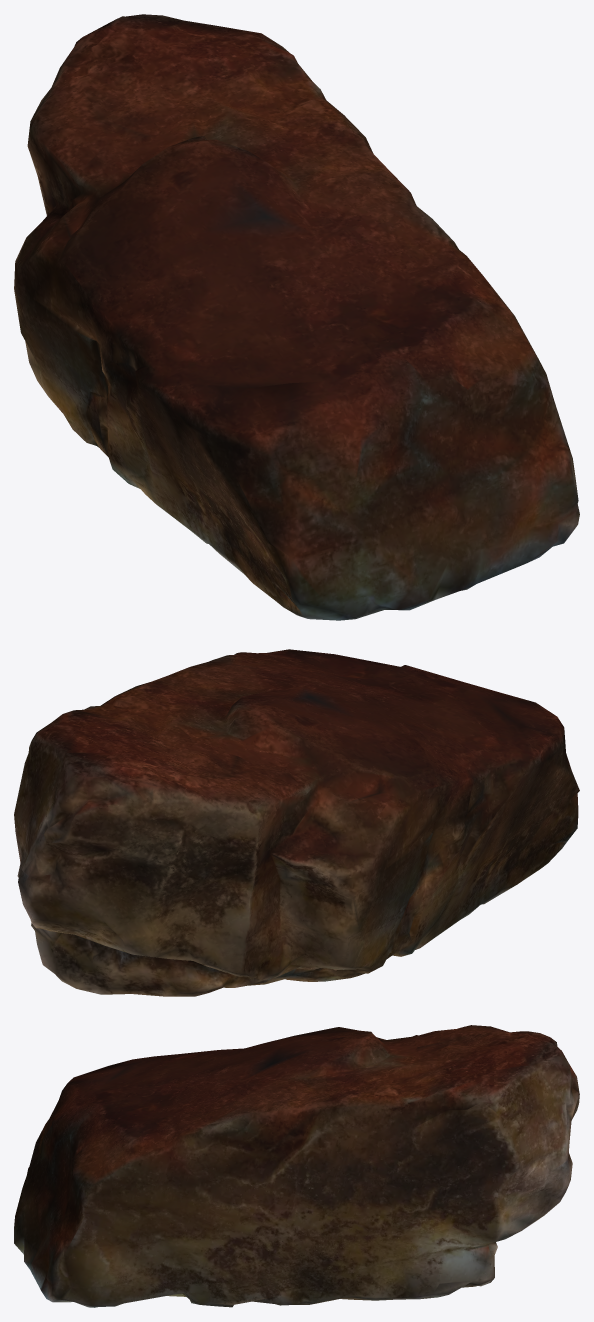
File: rock_07.glb
The picture shows the model from 3 angles, top to bottom: view 1: azimuth 30°, elevation 25°; view 2: azimuth 150°, elevation 25°; view 3: azimuth 270°, elevation 25°; orthographic projection. The views are drawn at different scales.
Parts seen in each view (by area): view 1: rock_07; view 2: rock_07; view 3: rock_07.
Part boxes in pixels (x1=…): rock_07: x1=14, y1=14, x2=579, y2=620; rock_07: x1=14, y1=649, x2=579, y2=996; rock_07: x1=14, y1=1025, x2=579, y2=1307.
Bounding box in the file's own units: 0.1681 × 0.1434 × 0.3199.
1 material, 1 textured.
